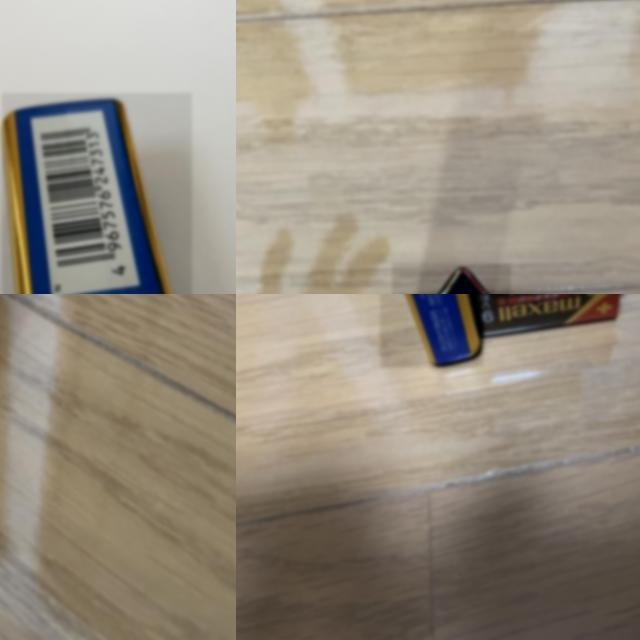9V: (2, 93, 192, 294), (379, 294, 484, 367), (467, 294, 632, 336)
